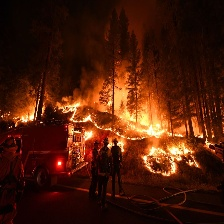fire: (98, 108, 224, 180), (9, 105, 97, 141)
smoke: (80, 21, 160, 113)
